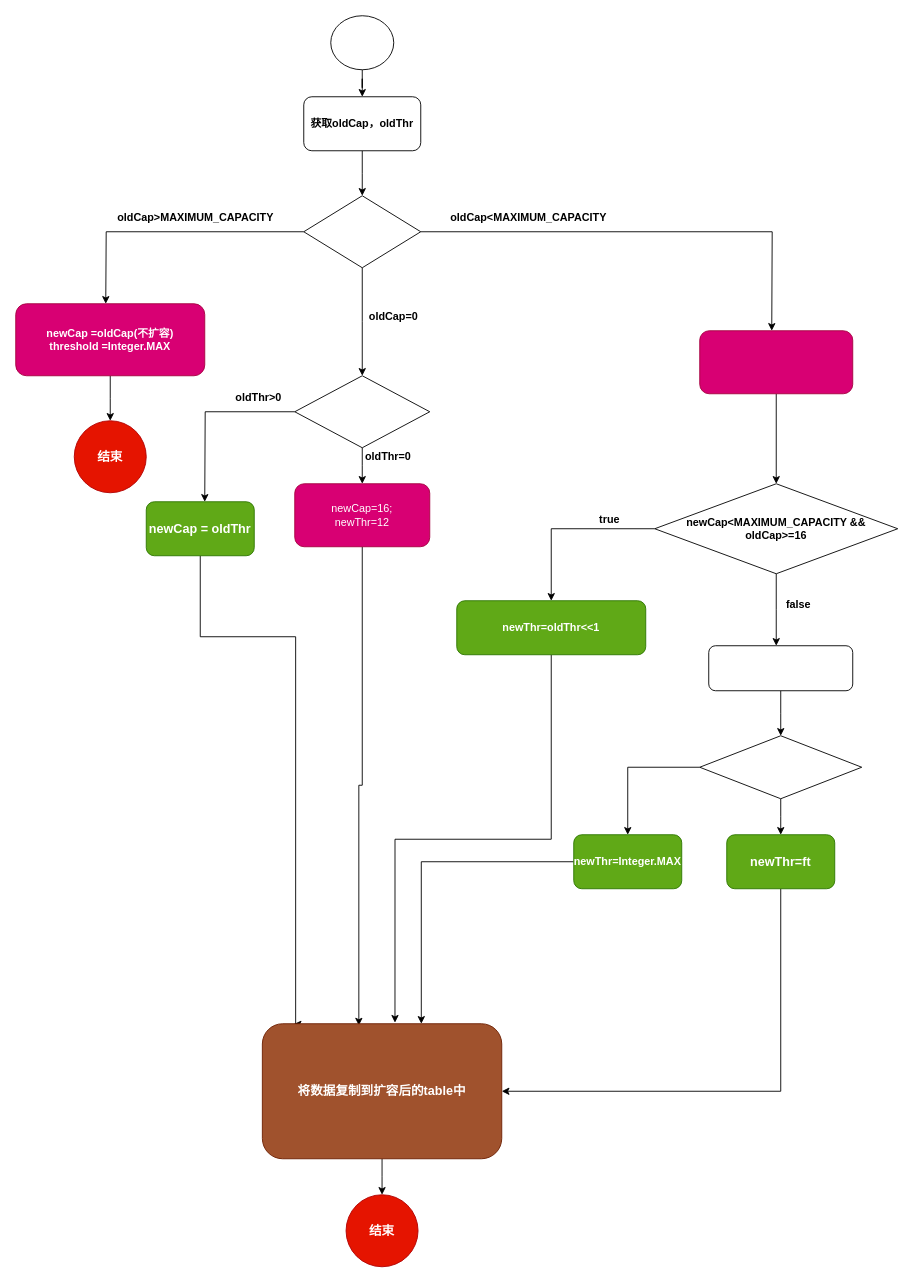
This 914x1283 diagram has some shape labels left out. The centre of each missing label's shape, as x and y in pixels:
ft<MAXMUN_CAPACITY: (780,767)
ft=newCap * loadFactor: (780,668)
newCap=oldCap<<1(2倍扩容): (776,362)
oldCap: (362,231)
oldThr>0?: (362,411)
开始: (362,42)
